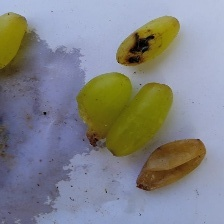grapes: (30, 9, 218, 181)
